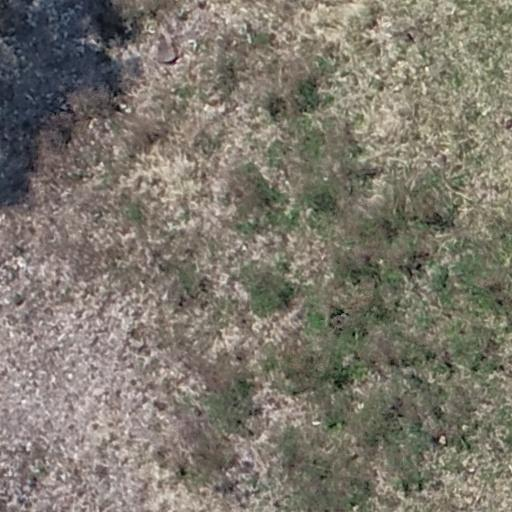stone: (152, 398, 169, 413), (437, 436, 450, 449), (461, 423, 469, 433)
